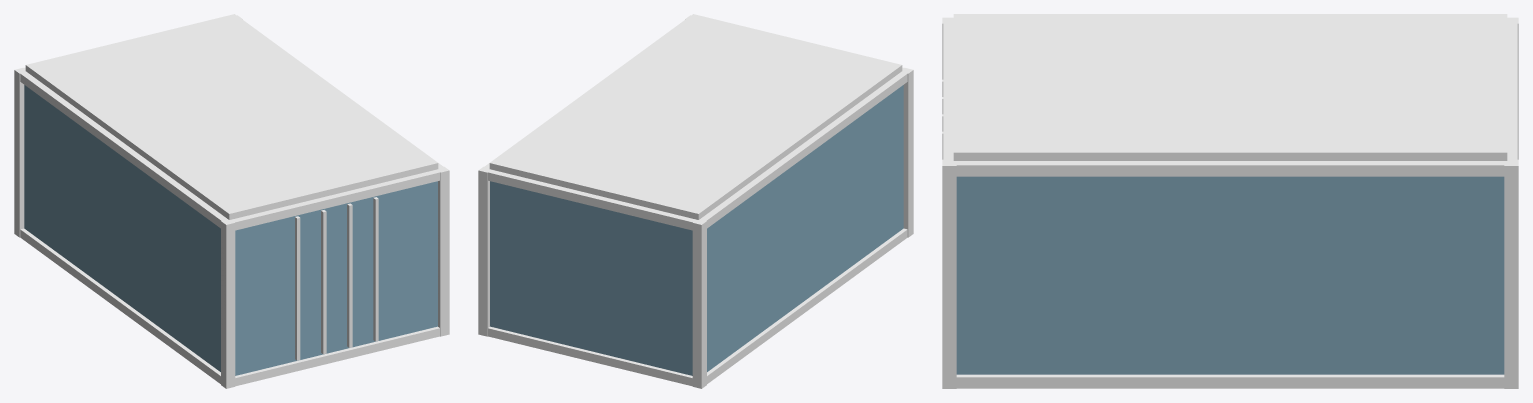
File: ExpeditionContainer.glb
3 renders of one model, left to right at view 1: azimuth 30°, elevation 25°; view 2: azimuth 150°, elevation 25°; view 3: azimuth 270°, elevation 25°, orthographic. The views are drawn at different scales.
Visible parts, largest first — view 1: Body, Shell; view 2: Body, Shell; view 3: Shell, Body.
Boxes of the visible parts, x1=… form: Body: x1=14, y1=14, x2=449, y2=388; Shell: x1=24, y1=85, x2=437, y2=375; Body: x1=478, y1=14, x2=913, y2=388; Shell: x1=490, y1=85, x2=903, y2=375; Shell: x1=956, y1=176, x2=1504, y2=374; Body: x1=942, y1=14, x2=1518, y2=388.
Bounding box in the file's own units: 17.1 × 12.45 × 28.1.
